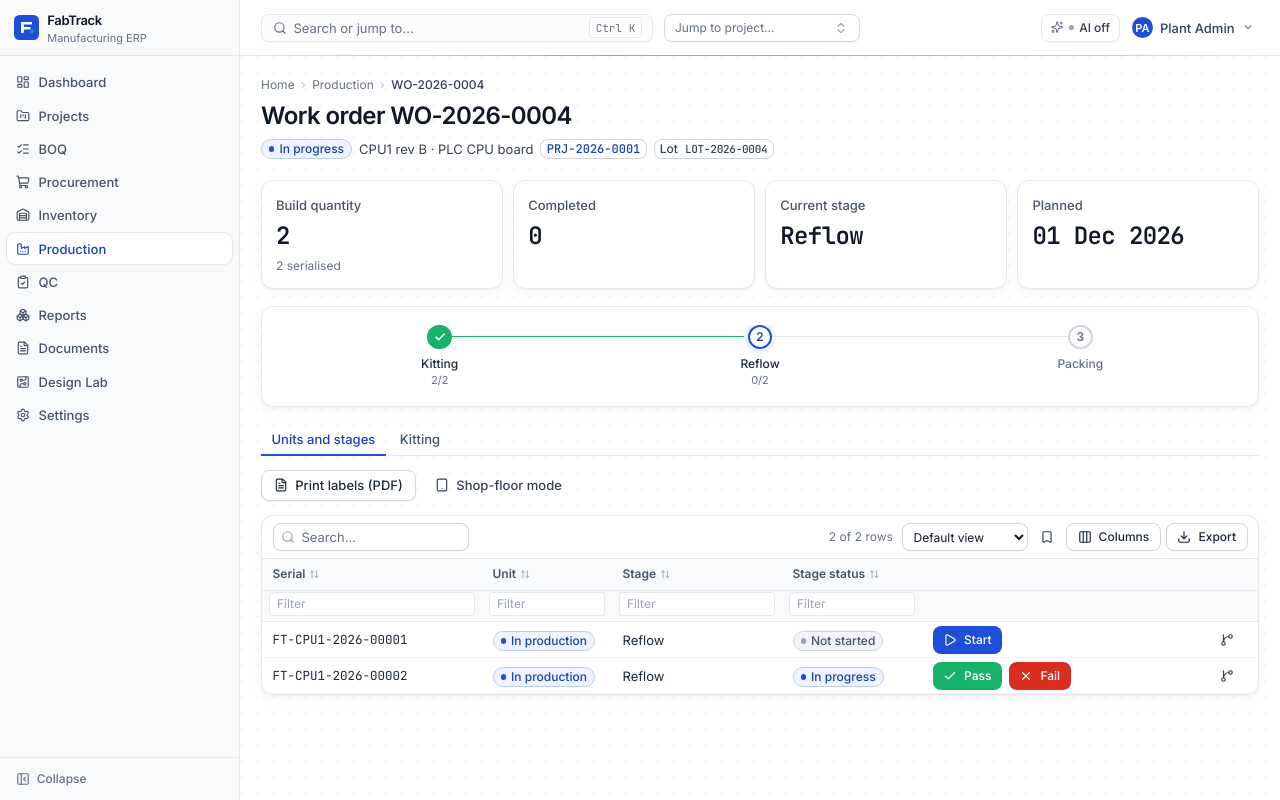
Work order page › unit actions: start a unit, pass at a QC stage sends it to QC
The image size is (1280, 800).
Click the button with aria-label "Start stage for FT-CPU1-2026-00001".
click(967, 640)  # box [932,626,1002,654]
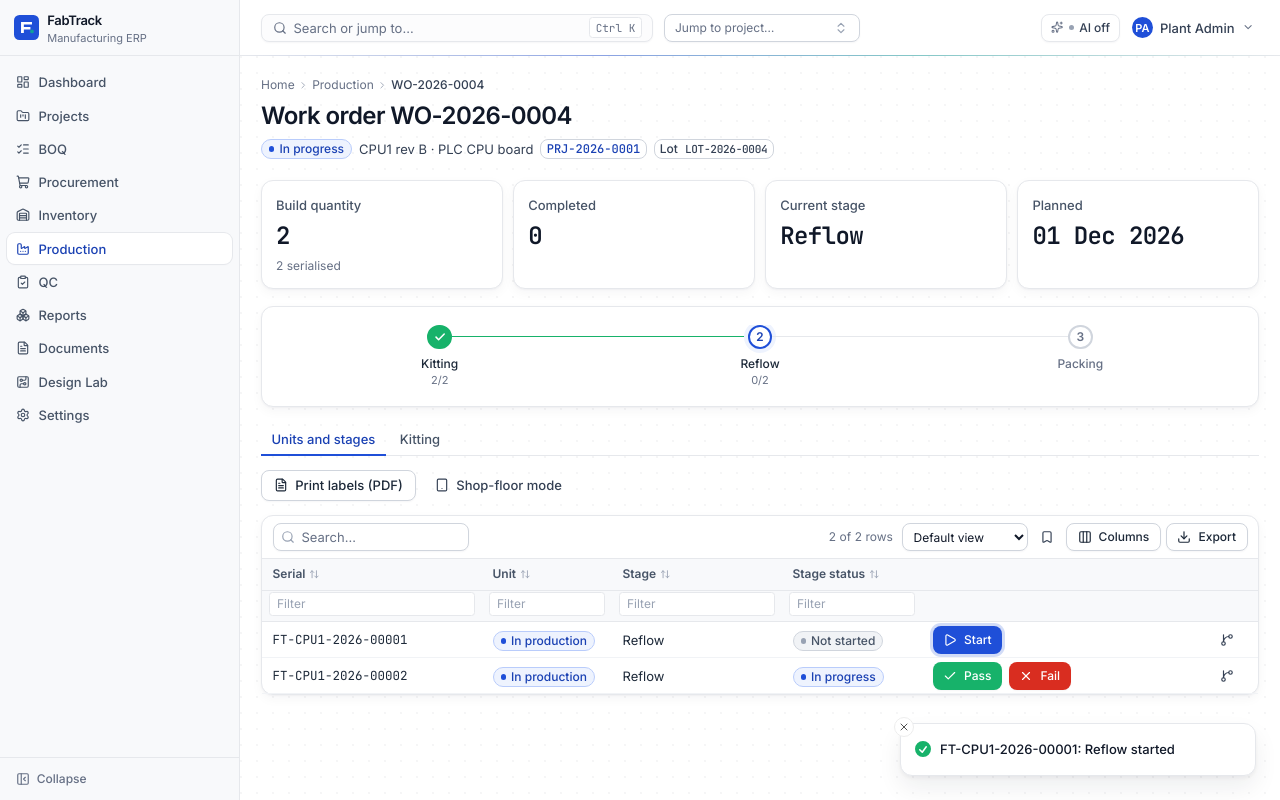
Click the button with aria-label "Pass FT-CPU1-2026-00002".
click(967, 676)  # box [932,662,1002,690]
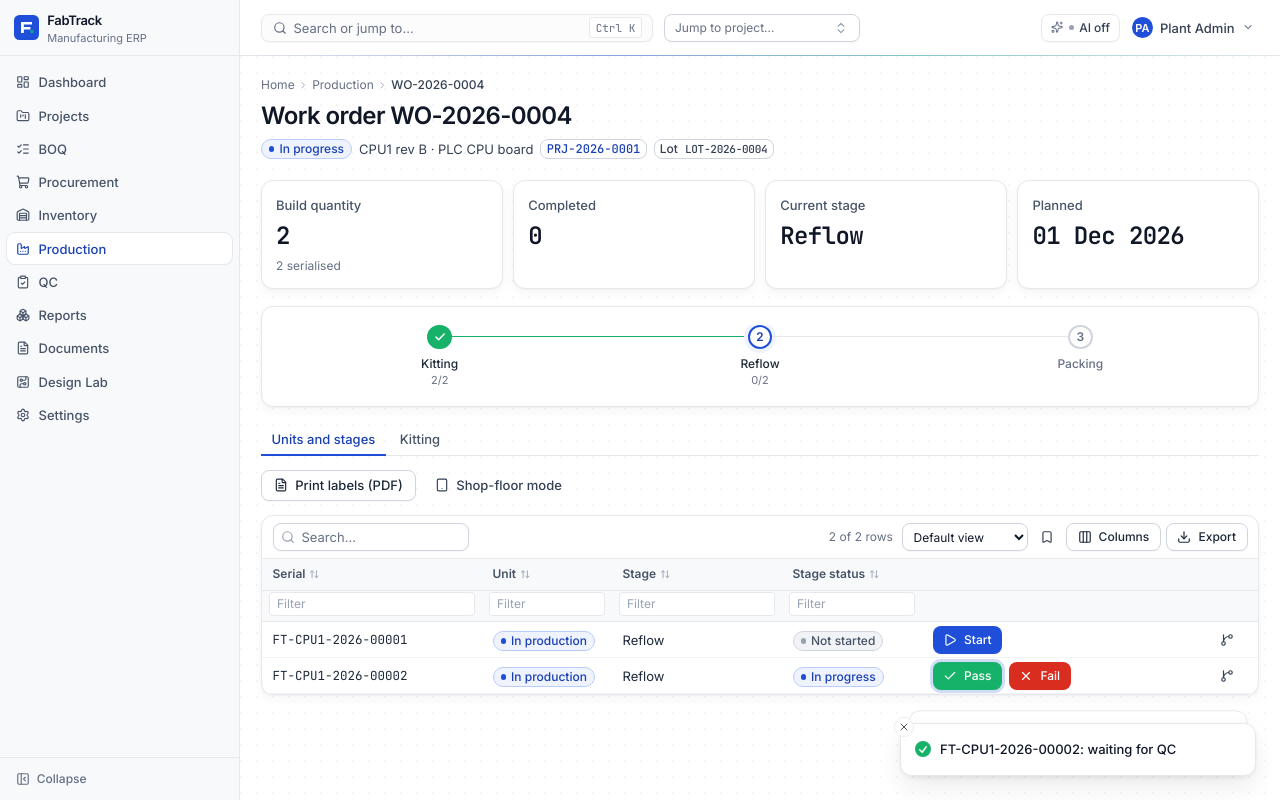
Now the text "FT-CPU1-2026-00002: waiting for QC" is shown, box [940,740,1176,759]
